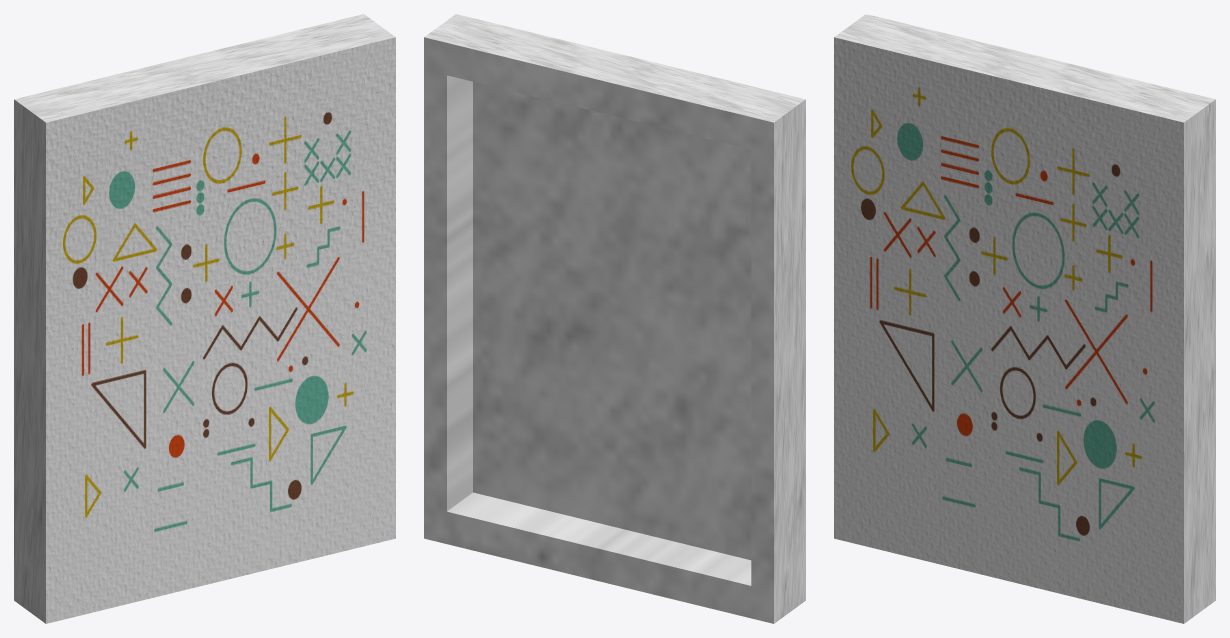
Rendered from Painting 9.fbx.
The picture shows the model from 3 angles, left to right: view 1: azimuth 30°, elevation 25°; view 2: azimuth 150°, elevation 25°; view 3: azimuth 330°, elevation 25°; orthographic projection.
Parts seen in each view (by area): view 1: Cube.001; view 2: Cube.001; view 3: Cube.001.
Boxes of the visible parts, x1,y1,x2,y2 form: Cube.001: [14, 14, 395, 623]; Cube.001: [424, 14, 805, 623]; Cube.001: [834, 14, 1215, 623].
Size of the model in its own units: 0.7093 by 0.9713 by 0.1118.
